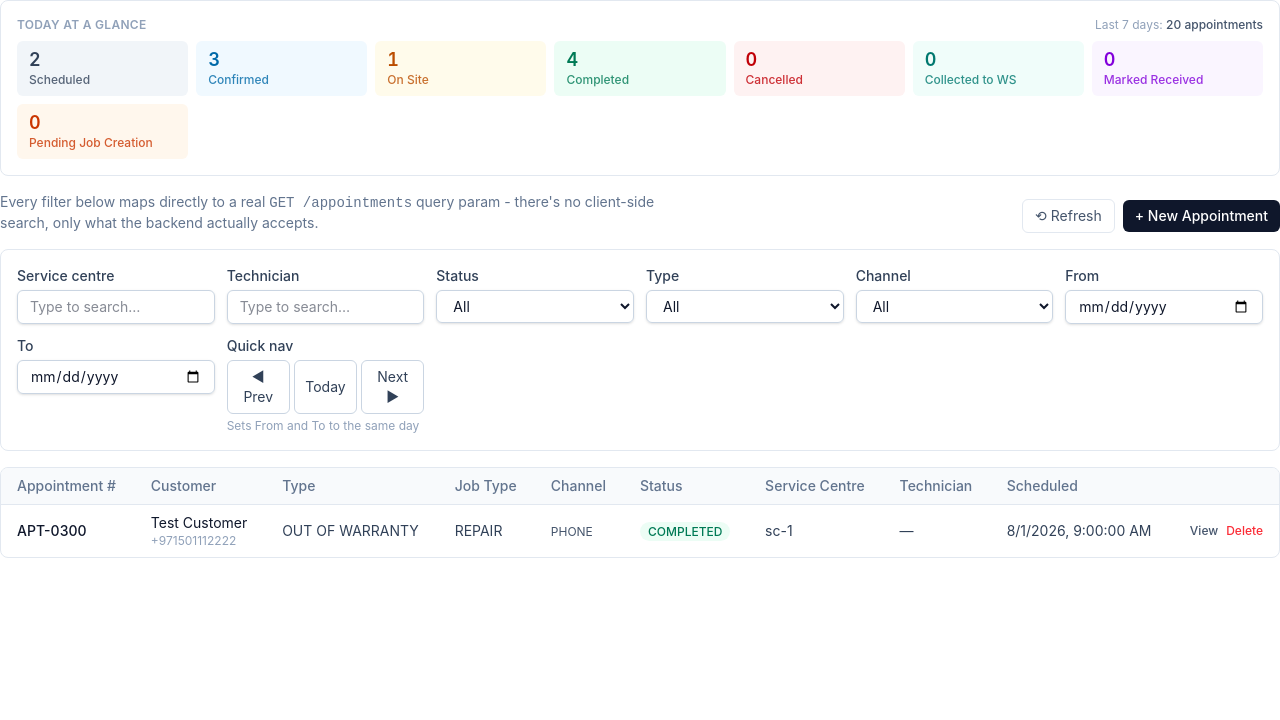
Scenario: SchedulePage - invoice number can be added after the appointment already exists › lets the invoice number be added from the View modal when it is missing, and shows the saved value afterward
Check: the text "APT-0300" is shown, box [17, 522, 86, 539]
Click the button "View": click(1204, 531) [1190, 523, 1218, 539]
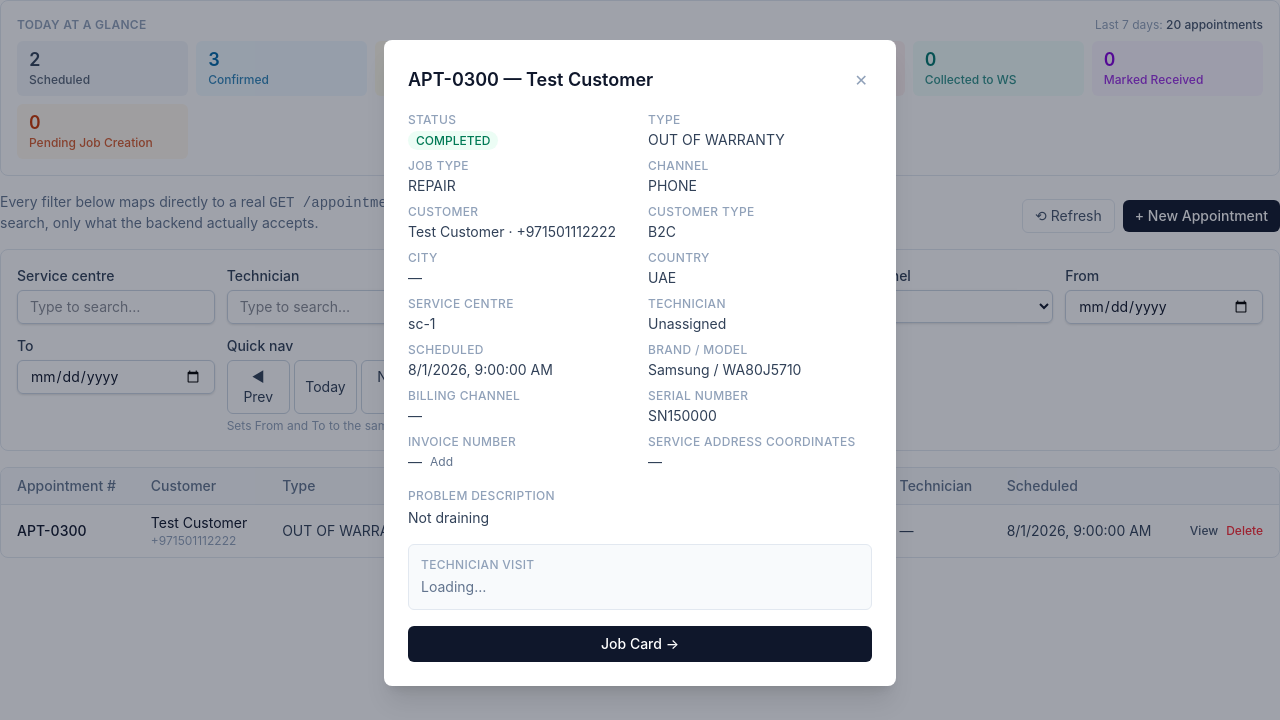
Check: the heading "APT-0300 — Test Customer" is shown, box [408, 66, 653, 94]
Click the button "Add": click(442, 462) [430, 454, 453, 470]
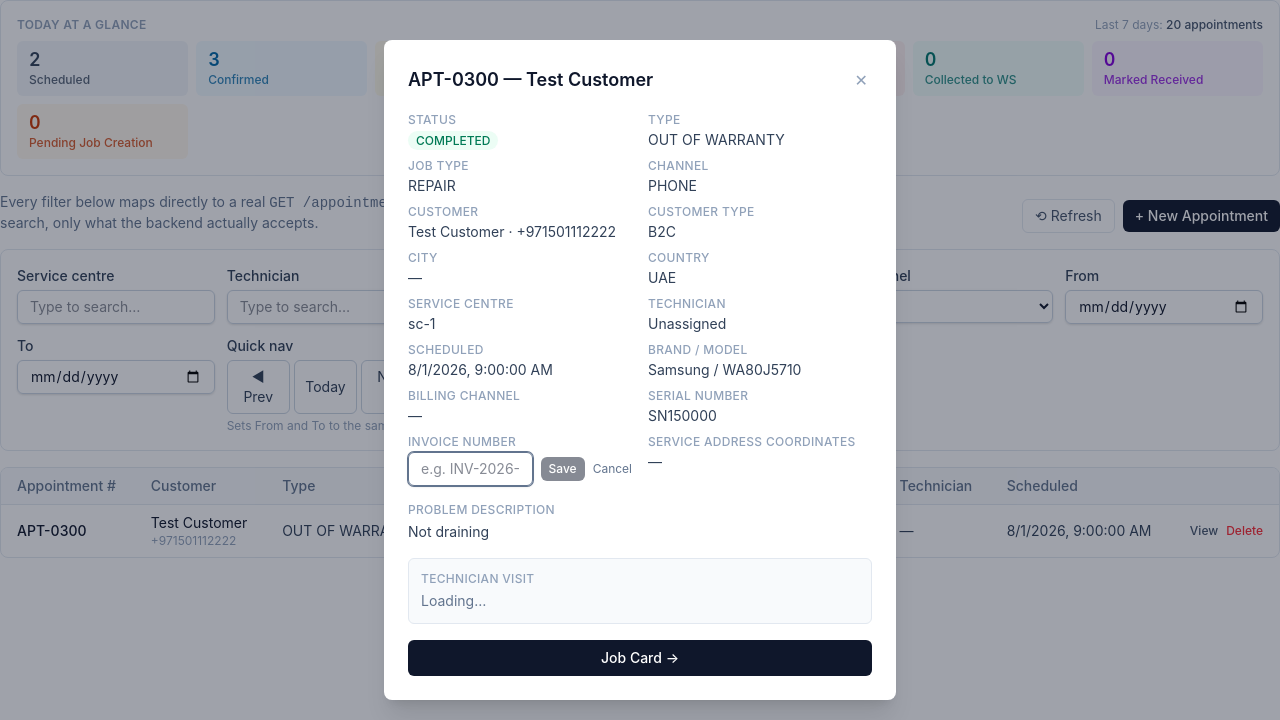
In the field with placeholder "e.g. INV-2026-00123": (470, 469) [408, 452, 532, 486], type "INV-2026-00123"
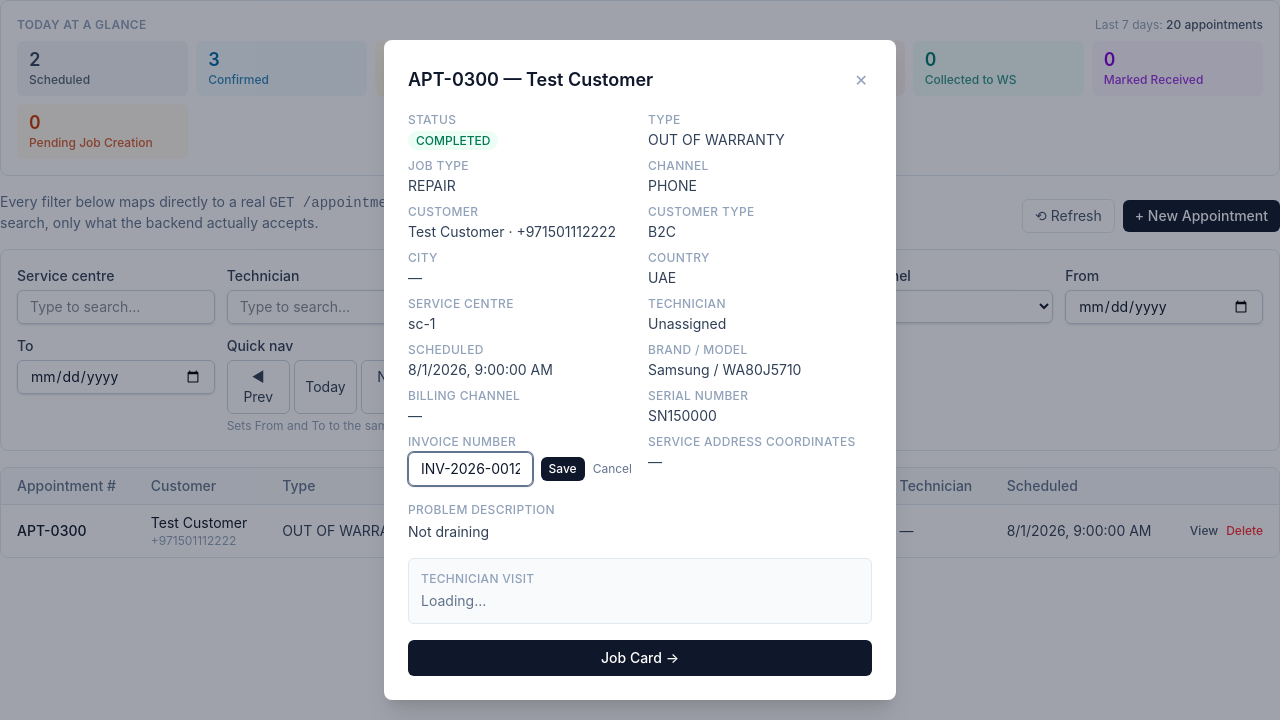
Click the button "Save": click(563, 469) [540, 457, 585, 481]
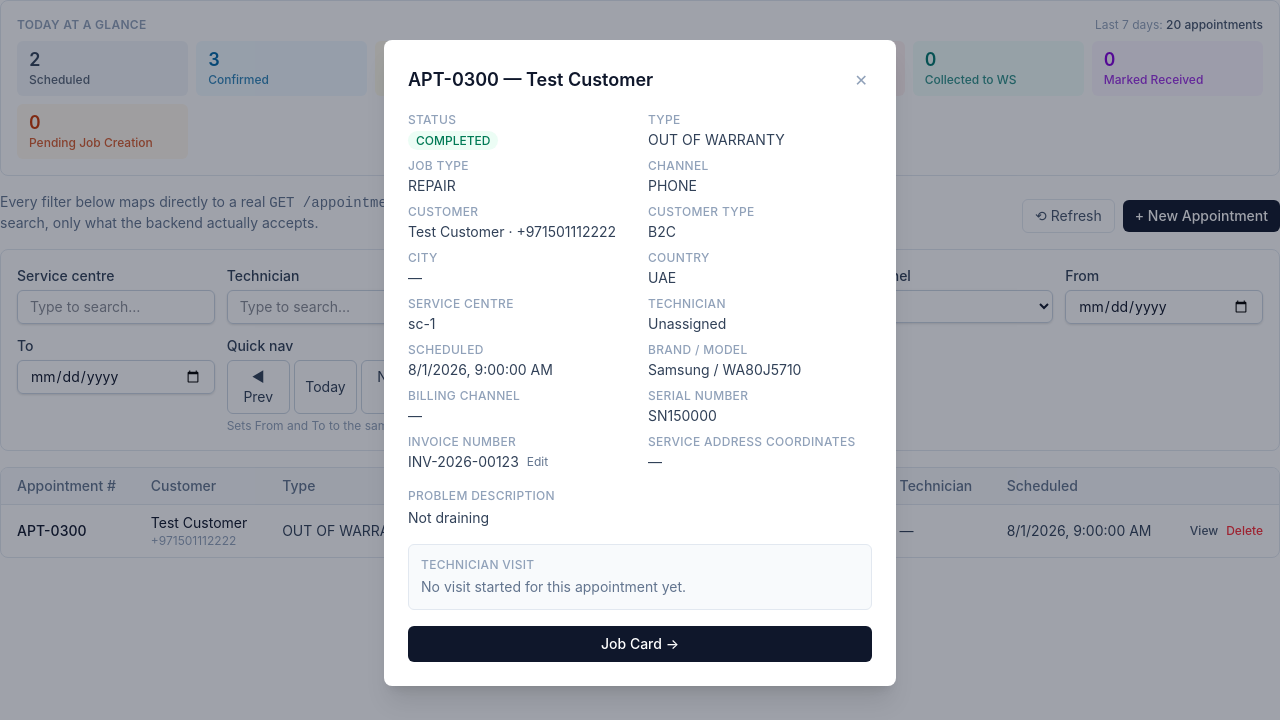
Check: the text "INV-2026-00123" is shown, box [408, 452, 519, 472]
Check: the button "Edit" is shown, box [527, 454, 548, 470]
